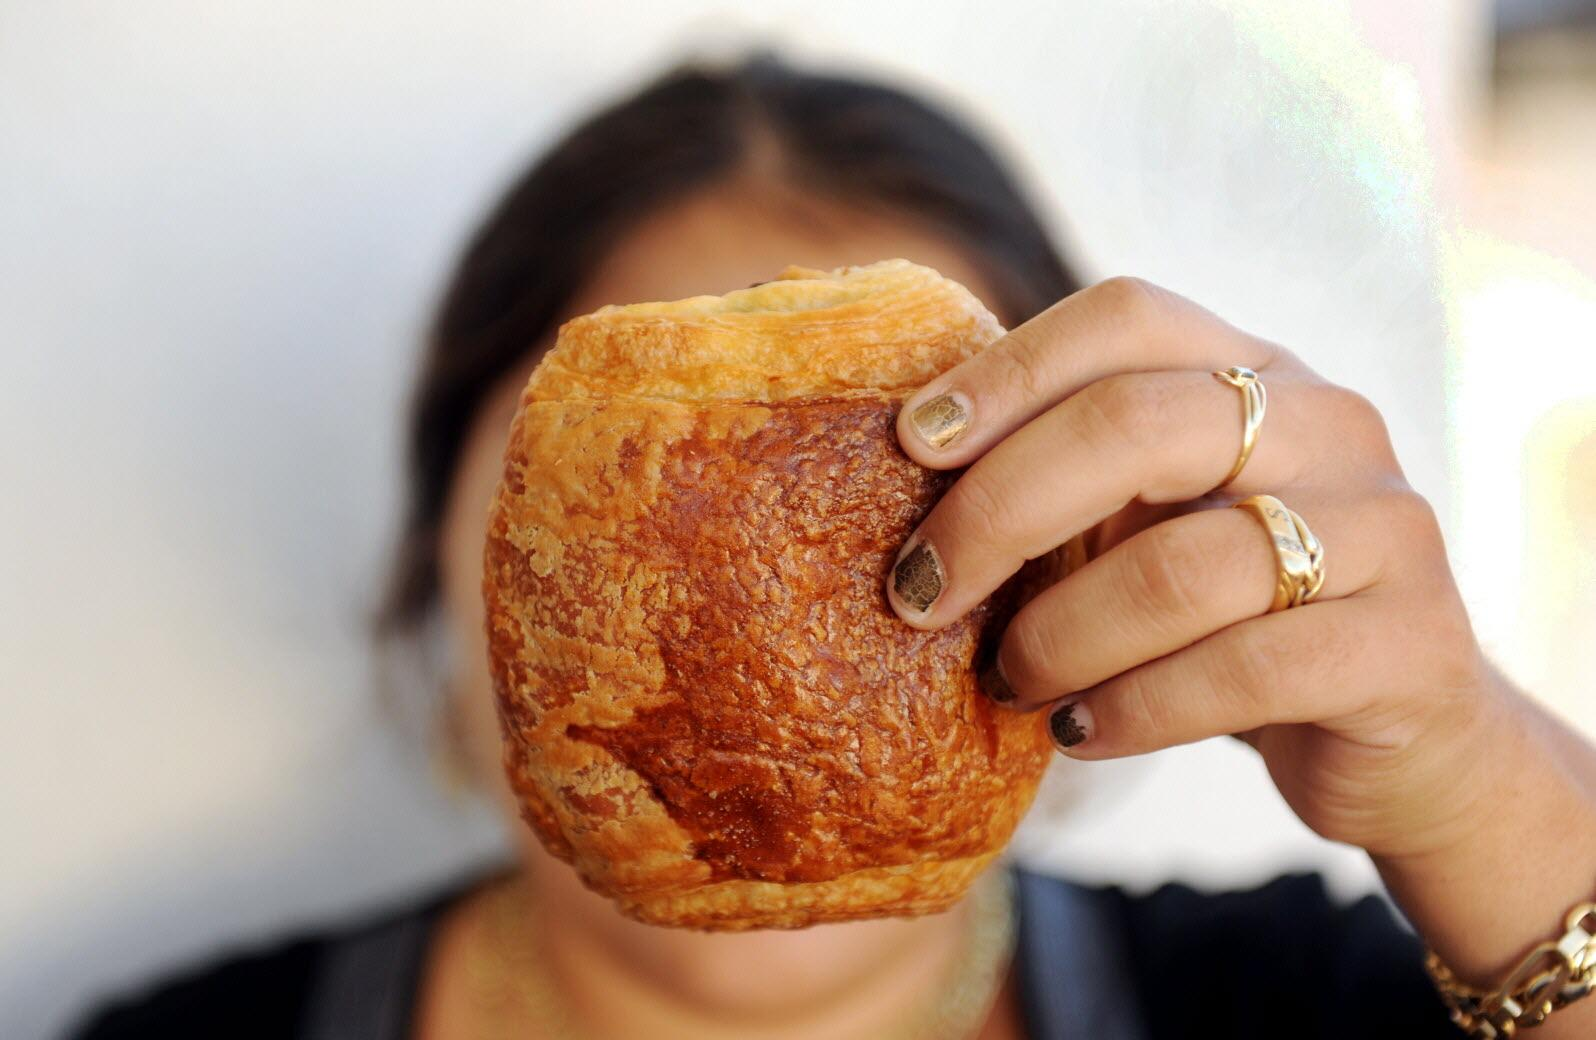pain au chocolat: (473, 243, 1074, 949)
